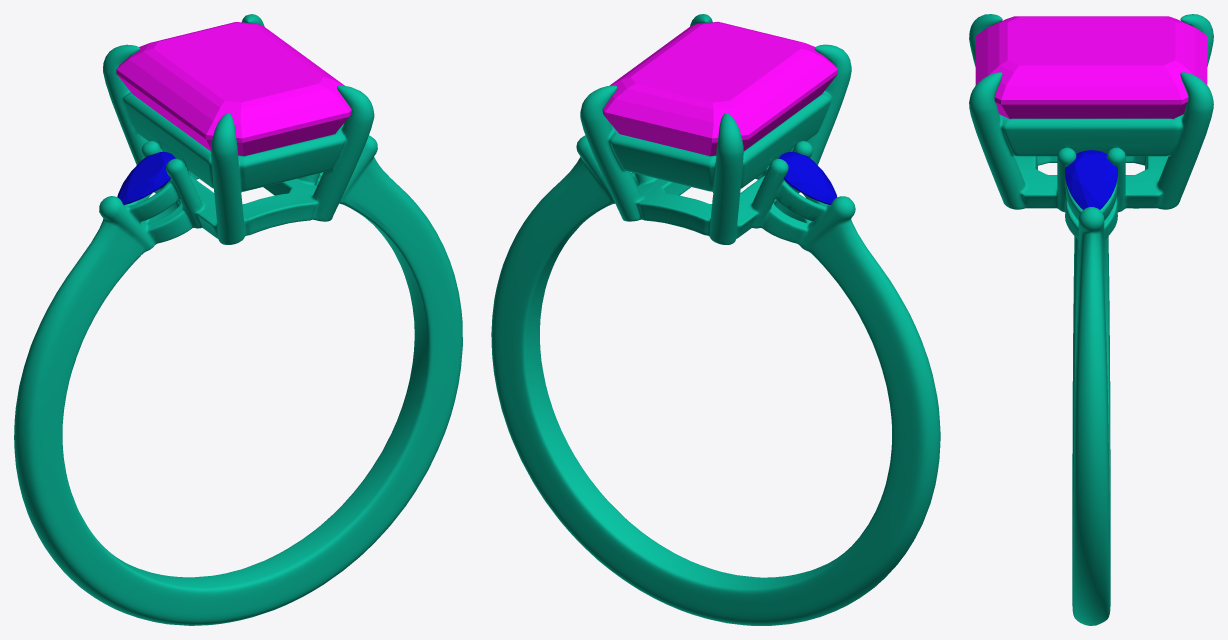
Rendered from BE1D232_EM_200ct_RENDER.glb.
3 views of the same model, side by side, from view 1: azimuth 30°, elevation 25°; view 2: azimuth 150°, elevation 25°; view 3: azimuth 270°, elevation 25° (orthographic).
Visible parts, largest first — view 1: Metal 01, CS_Diamond_Emerald, Diamond_Pear_side.001; view 2: Metal 01, CS_Diamond_Emerald, Diamond_Pear_side.001; view 3: Metal 01, CS_Diamond_Emerald, Diamond_Pear_side.
Boxes of the visible parts, box(x1,y1,x2,y2) form: Metal 01: box(14, 14, 462, 625); CS_Diamond_Emerald: box(116, 22, 351, 156); Diamond_Pear_side.001: box(117, 152, 175, 204); Metal 01: box(491, 14, 940, 625); CS_Diamond_Emerald: box(603, 21, 837, 156); Diamond_Pear_side.001: box(779, 152, 836, 204); Metal 01: box(969, 14, 1213, 625); CS_Diamond_Emerald: box(975, 16, 1207, 118); Diamond_Pear_side: box(1065, 150, 1117, 209).
Bounding box in the file's own units: 20.11 × 24.05 × 9.52.
